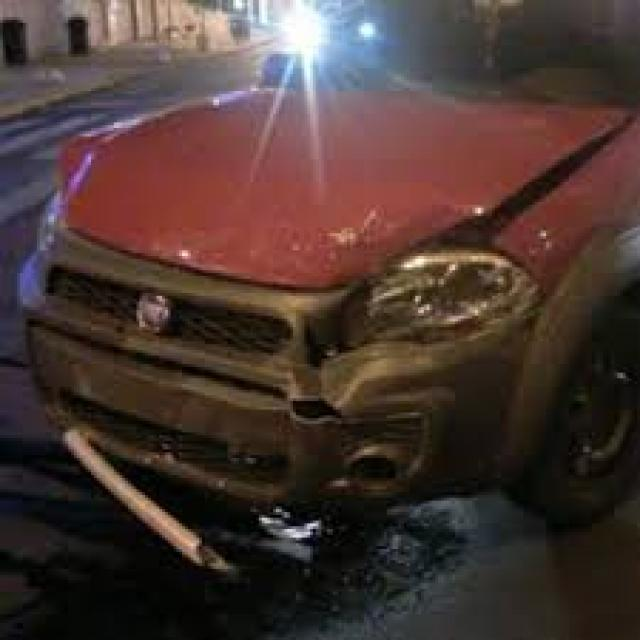minor: (233, 54, 625, 475)
